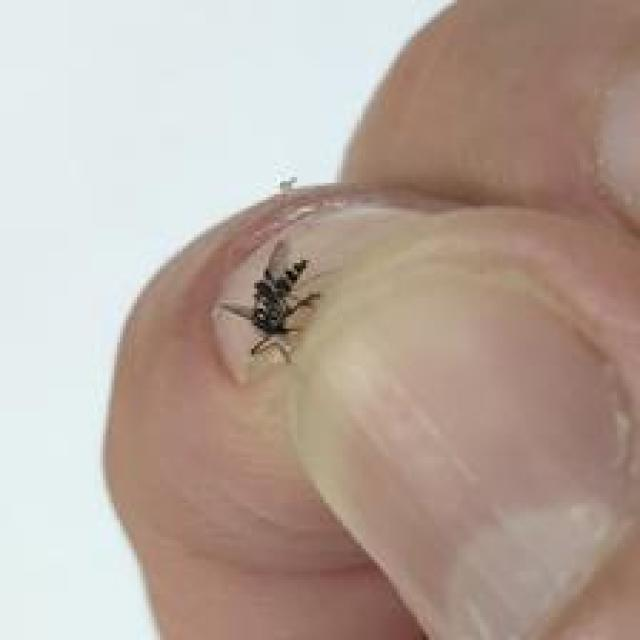Aedes albopictus: (217, 237, 323, 366)
